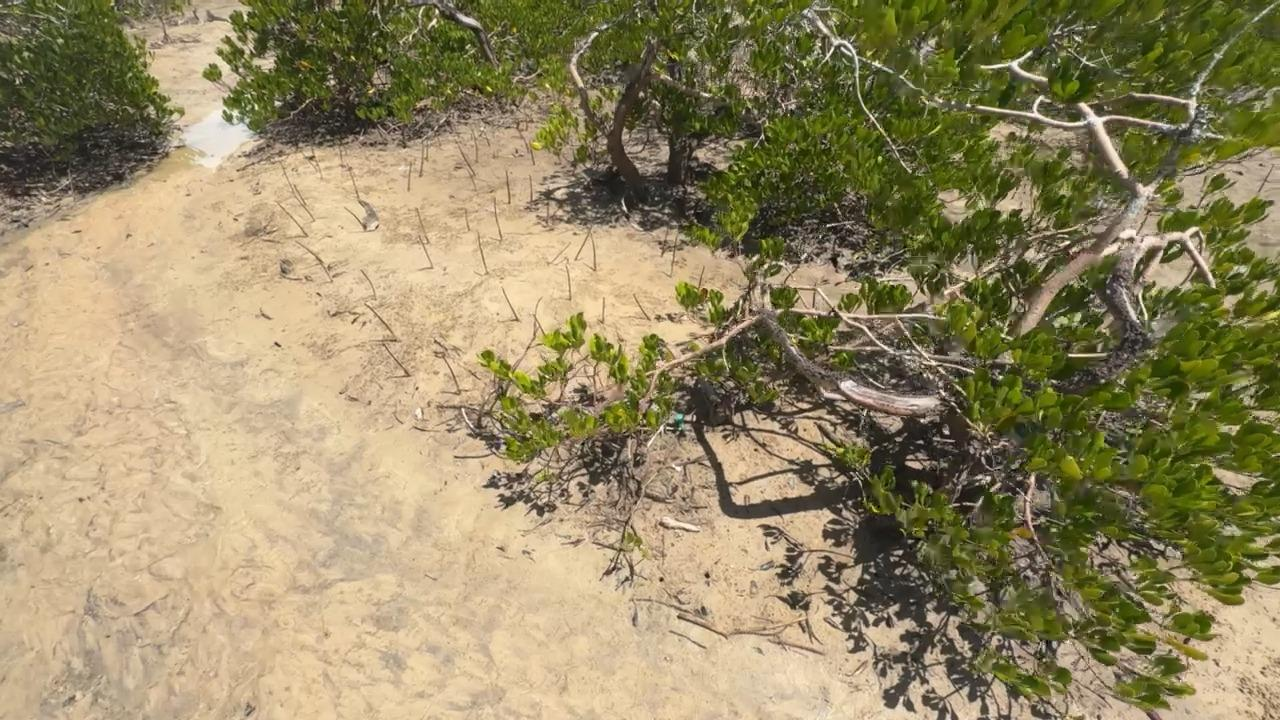Tree: (278, 202, 309, 237), (364, 302, 394, 335), (383, 343, 412, 376), (442, 356, 461, 395), (294, 240, 324, 264), (501, 286, 521, 321), (293, 194, 316, 222), (458, 144, 476, 175), (632, 293, 651, 321), (416, 207, 430, 243), (418, 235, 433, 268), (360, 269, 377, 297), (477, 231, 488, 273), (347, 163, 359, 199), (493, 196, 503, 239), (318, 257, 333, 283), (344, 206, 362, 225), (670, 237, 678, 278), (293, 183, 306, 204), (660, 228, 669, 257), (565, 264, 572, 300), (505, 170, 511, 203), (591, 233, 596, 270), (529, 140, 535, 165), (529, 174, 533, 202), (465, 208, 470, 230), (474, 138, 478, 163), (602, 297, 605, 324), (421, 139, 424, 164), (408, 160, 412, 177)
